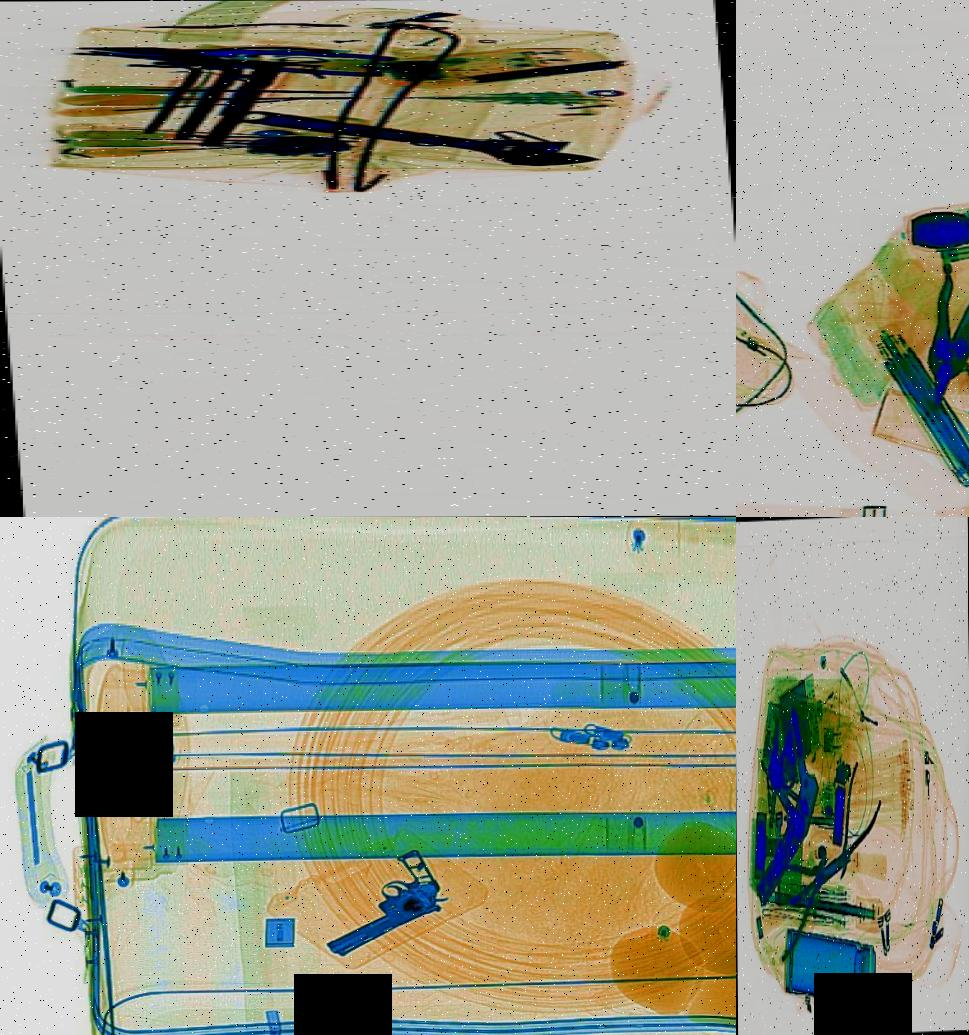Gun: (277, 849, 479, 956)
Pliers: (76, 30, 336, 77), (761, 817, 840, 963), (910, 258, 969, 409), (825, 756, 886, 894)
Wrench: (237, 98, 609, 175)
